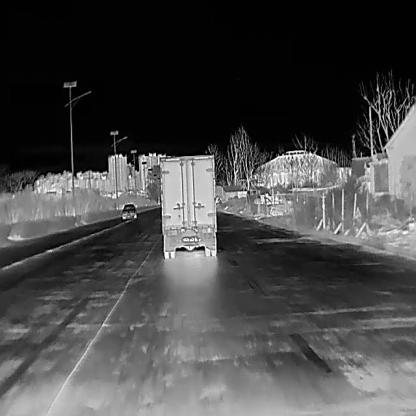car: (157, 152, 217, 258), (120, 201, 137, 219)
